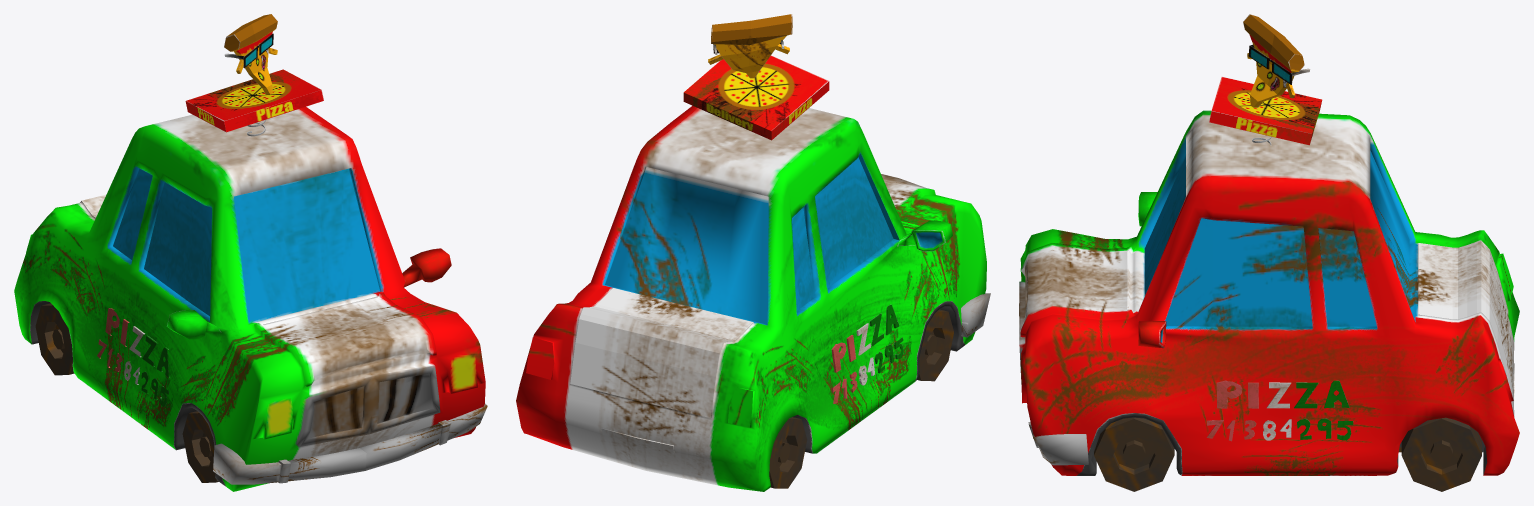
File: Dani_Coche.fbx
The picture shows the model from 3 angles, left to right: view 1: azimuth 30°, elevation 25°; view 2: azimuth 150°, elevation 25°; view 3: azimuth 270°, elevation 25°; orthographic projection. The views are drawn at different scales.
Parts seen in each view (by area): view 1: Coche; view 2: Coche; view 3: Coche.
Boxes of the visible parts, left/top/right/bottom form: Coche: left=14, top=14, right=487, bottom=491; Coche: left=516, top=14, right=990, bottom=491; Coche: left=1019, top=14, right=1519, bottom=491.
Bounding box in the file's own units: 1.37 × 1.83 × 2.05.
1 material, 1 textured.
